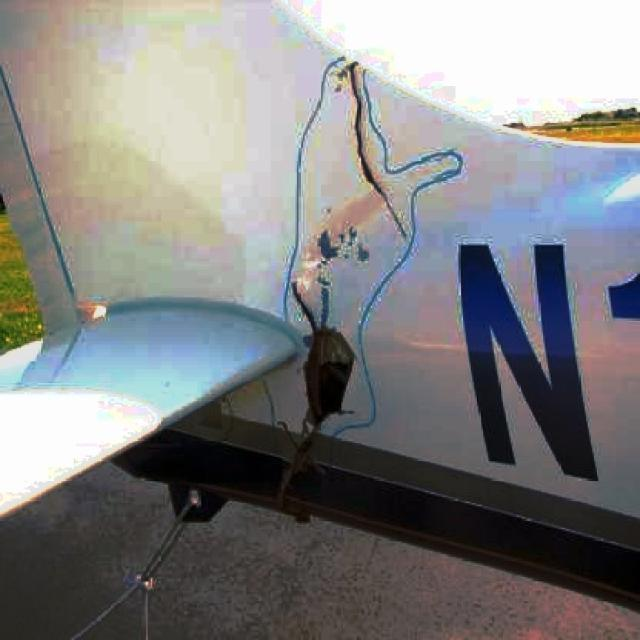crack: (340, 87, 423, 250)
